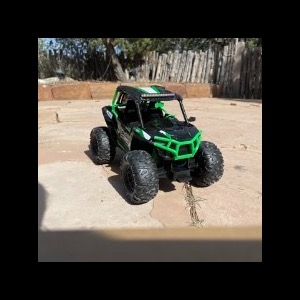polaris: (89, 84, 225, 208)
